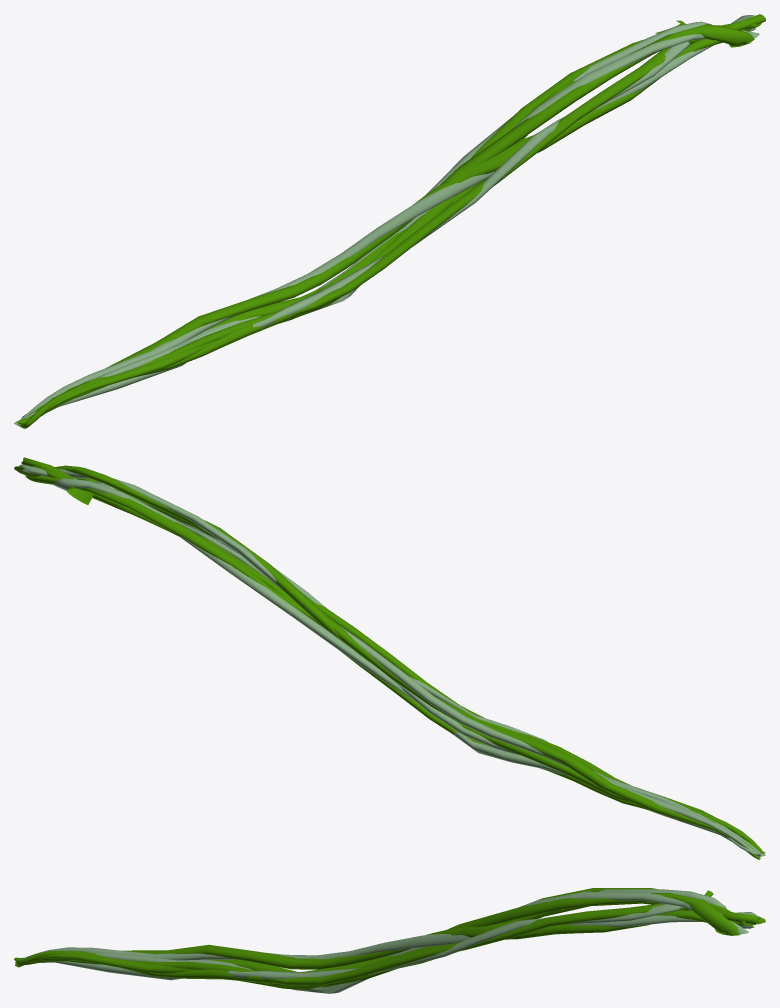
Rendered from Ranken_6.fbx.
3 views of the same model, one above another, from view 1: azimuth 30°, elevation 25°; view 2: azimuth 150°, elevation 25°; view 3: azimuth 330°, elevation 25° (orthographic).
Visible parts, largest first — view 1: Ranken_6; view 2: Ranken_6; view 3: Ranken_6.
Part boxes in pixels (left/top/right/bottom): Ranken_6: left=14, top=14, right=765, bottom=428; Ranken_6: left=14, top=457, right=765, bottom=859; Ranken_6: left=14, top=888, right=765, bottom=993.
Size of the model in its own units: 2769 by 812 by 233.
